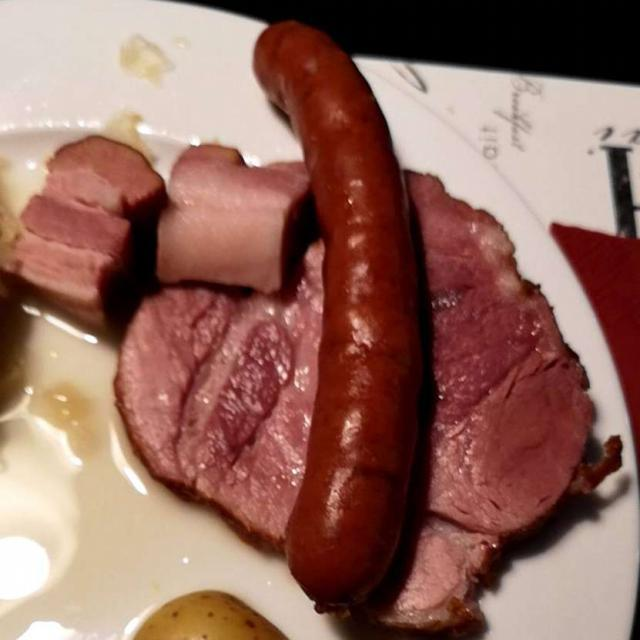bacon: (20, 121, 319, 333)
ham: (122, 169, 604, 632)
